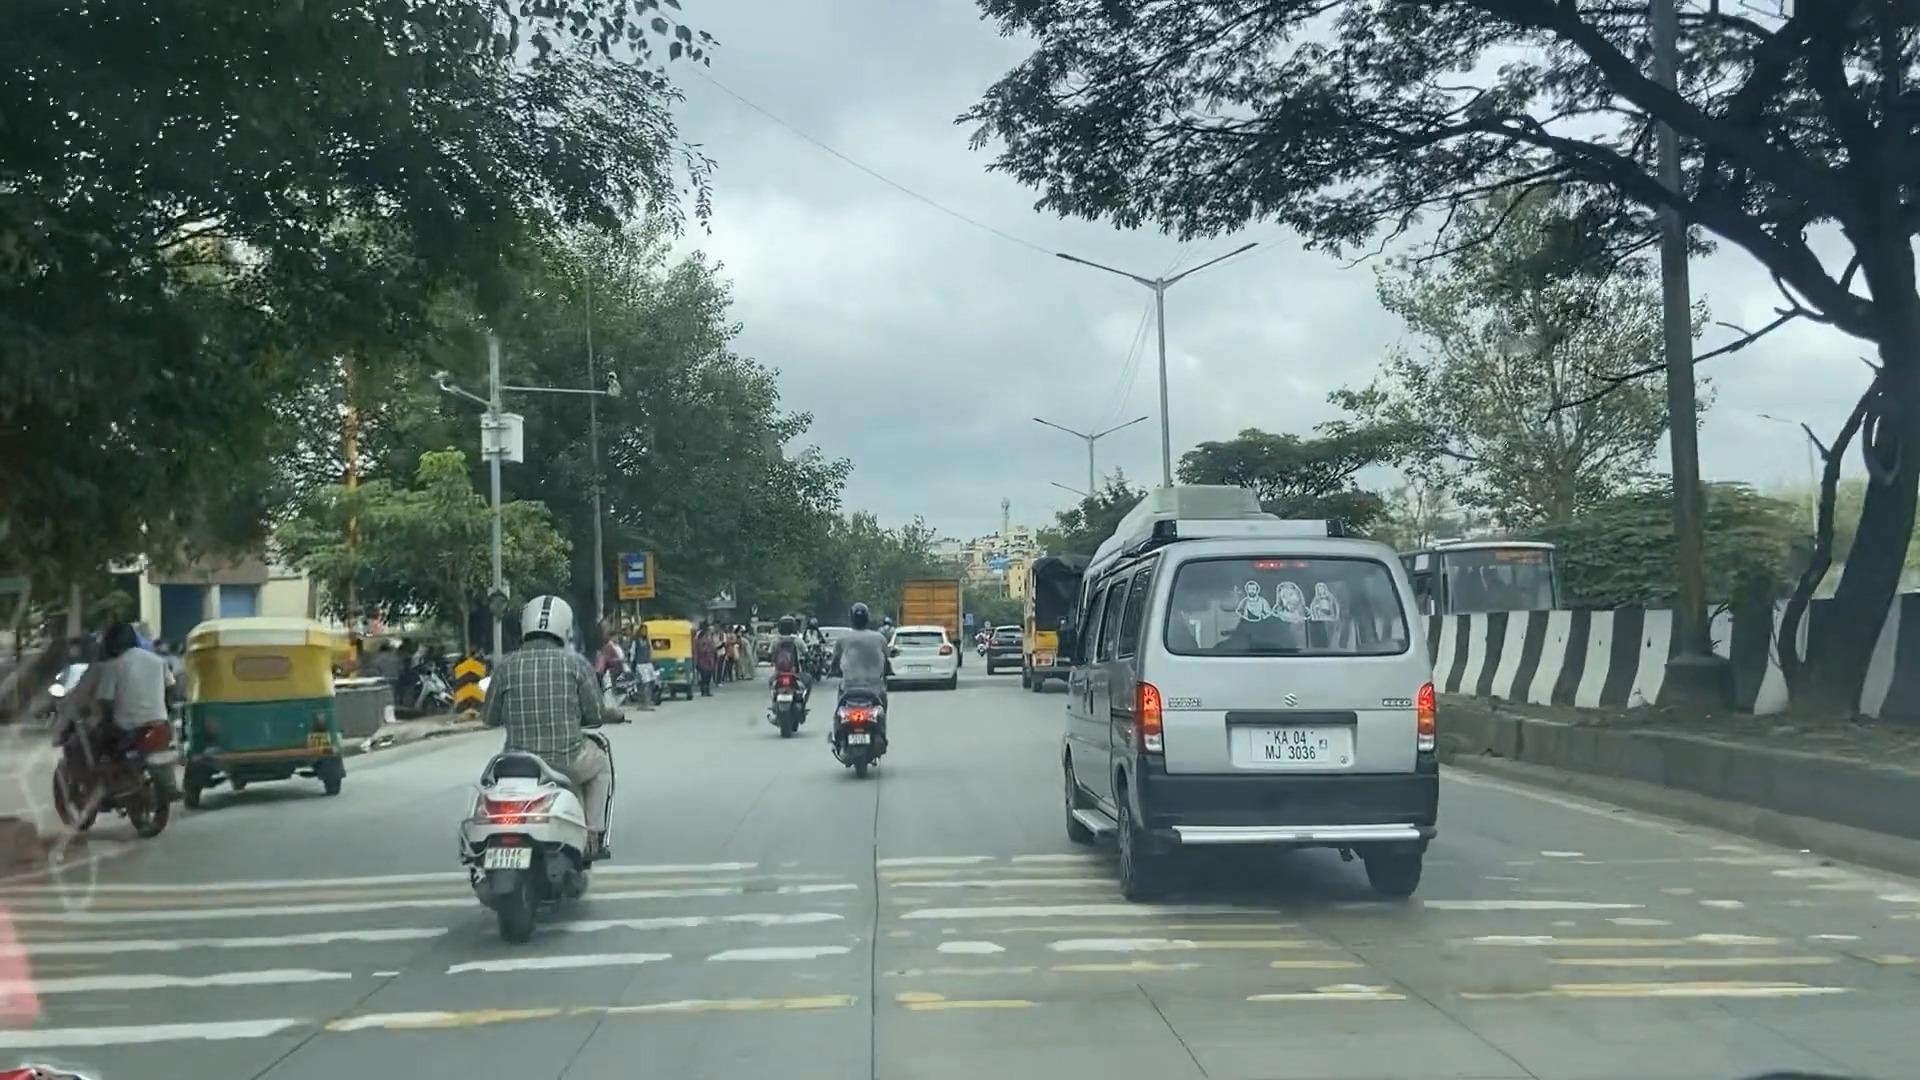LMV: (1033, 558, 1456, 897), (454, 588, 628, 922)
SpeedBump: (5, 873, 1731, 1021)
